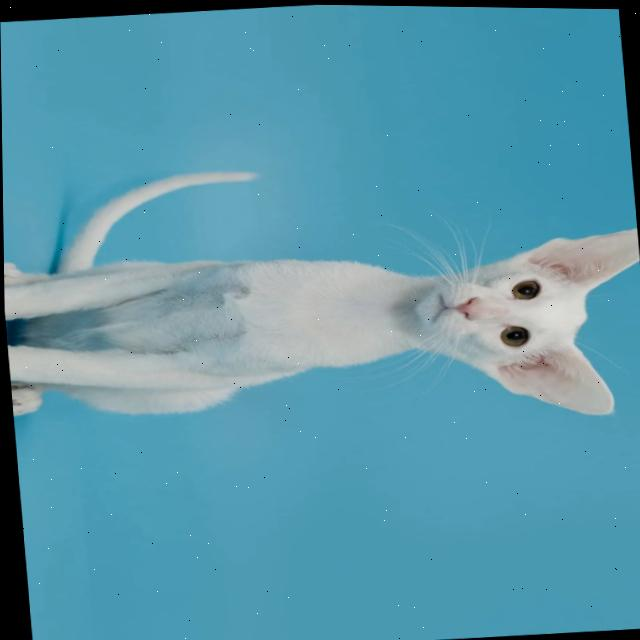Oriental: (2, 136, 640, 457)
